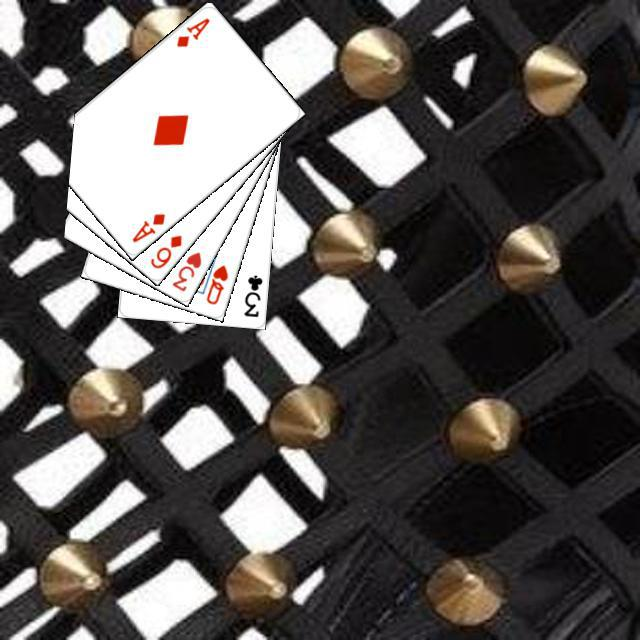3c: (239, 270, 264, 318)
3h: (167, 247, 203, 293)
6d: (145, 230, 184, 270)
Ad: (127, 208, 167, 244), (172, 13, 211, 49)
Qh: (201, 260, 230, 306)
